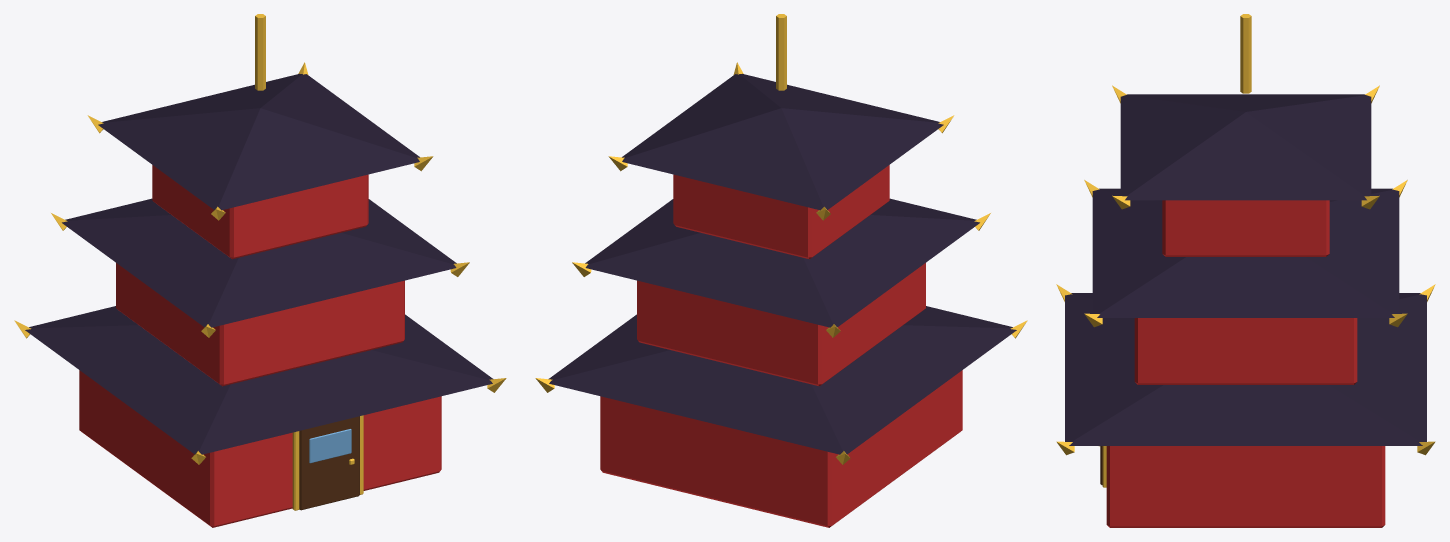
Rendered from Pagoda.fbx.
The picture shows the model from 3 angles, left to right: view 1: azimuth 30°, elevation 25°; view 2: azimuth 150°, elevation 25°; view 3: azimuth 270°, elevation 25°; orthographic projection. The views are drawn at different scales.
Parts seen in each view (by area): view 1: Pagoda; view 2: Pagoda; view 3: Pagoda.
Part boxes in pixels (bbox=[...]): Pagoda: bbox=[14, 14, 506, 527]; Pagoda: bbox=[535, 14, 1027, 527]; Pagoda: bbox=[1056, 14, 1435, 527].
Size of the model in its own units: 13.39 by 18 by 13.63.
Materials: 1 (1 with a texture image).
